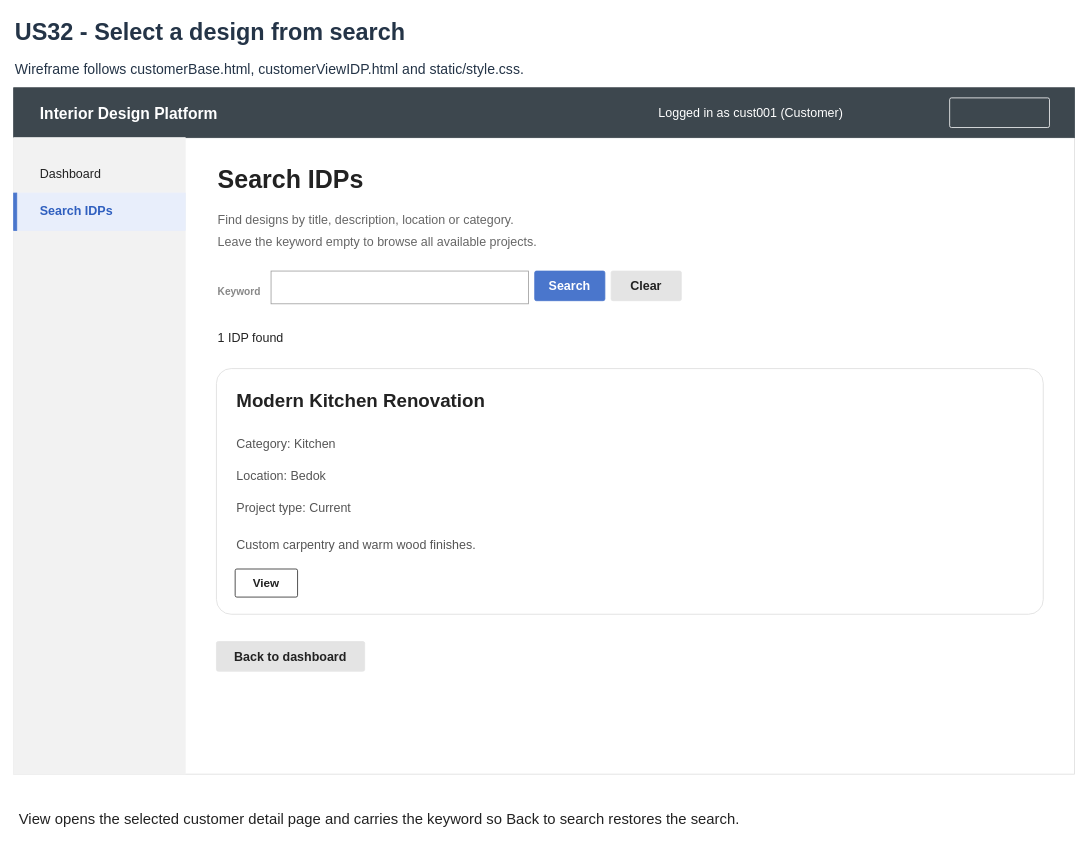
Some shapes in this 1088 by 846 pixel diagram are drawn without their labels. The shapes that lost their labels are listed below. From the top down, each one's centre as x and y in pixels, then its label:
At [999,112]: "Log out".
At [399,287]: "kitchen".
